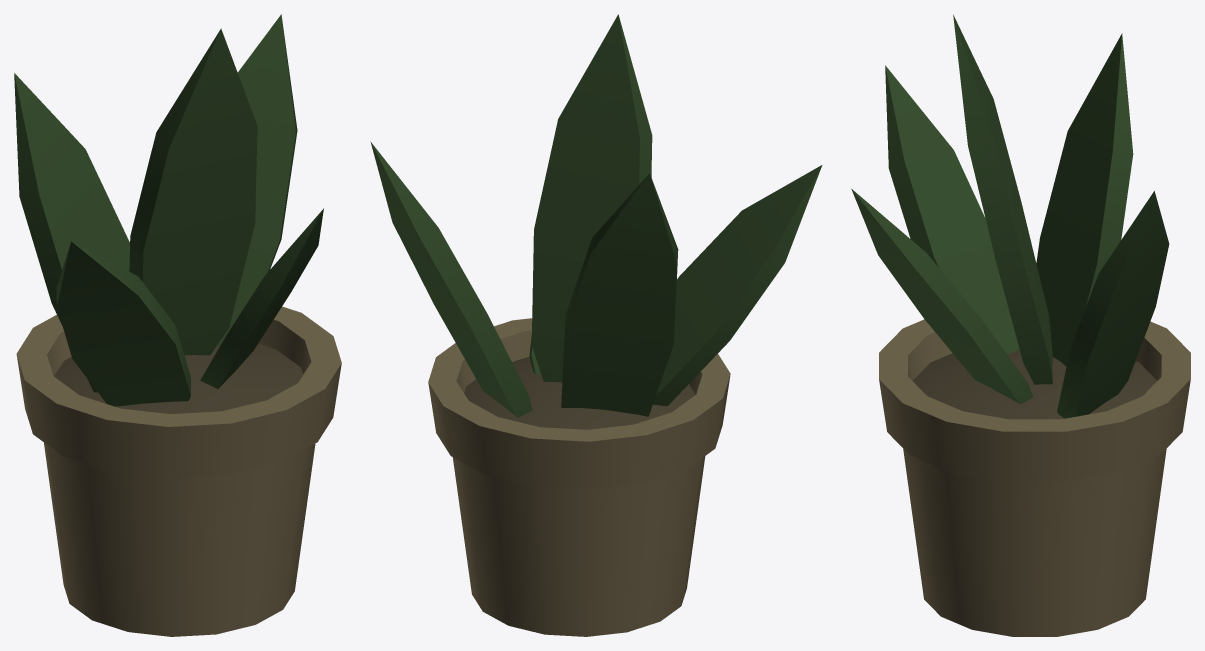
Rendered from plant.fbx.
The picture shows the model from 3 angles, left to right: view 1: azimuth 30°, elevation 25°; view 2: azimuth 150°, elevation 25°; view 3: azimuth 270°, elevation 25°; orthographic projection. The views are drawn at different scales.
Parts seen in each view (by area): view 1: plant; view 2: plant; view 3: plant.
Part boxes in pixels (left/top/right/bottom): plant: left=14, top=14, right=341, bottom=636; plant: left=370, top=14, right=822, bottom=636; plant: left=851, top=14, right=1190, bottom=636.
Bounding box in the file's own units: 283 × 458 × 245.
